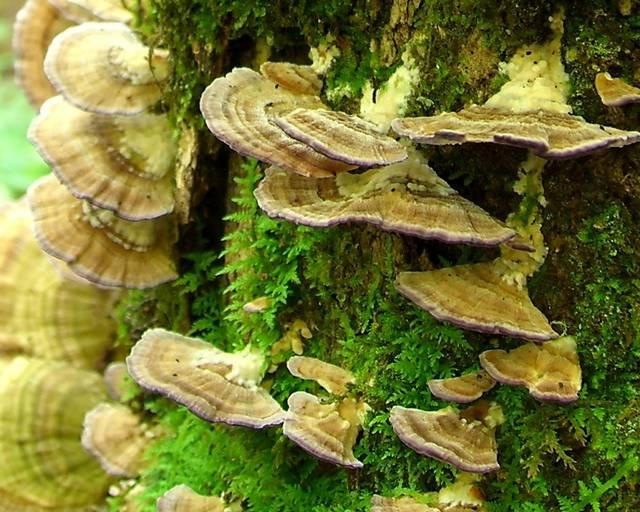poisonous_mushroom: (5, 56, 610, 512), (22, 18, 185, 289)
